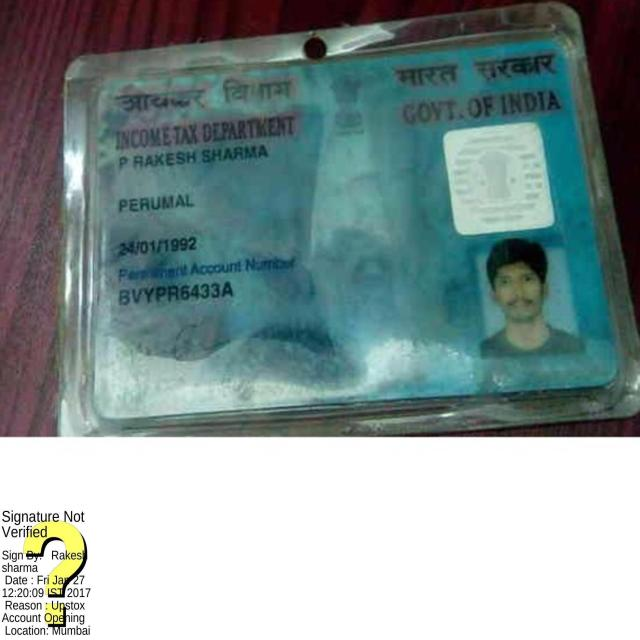pan_card: (100, 39, 621, 421)
